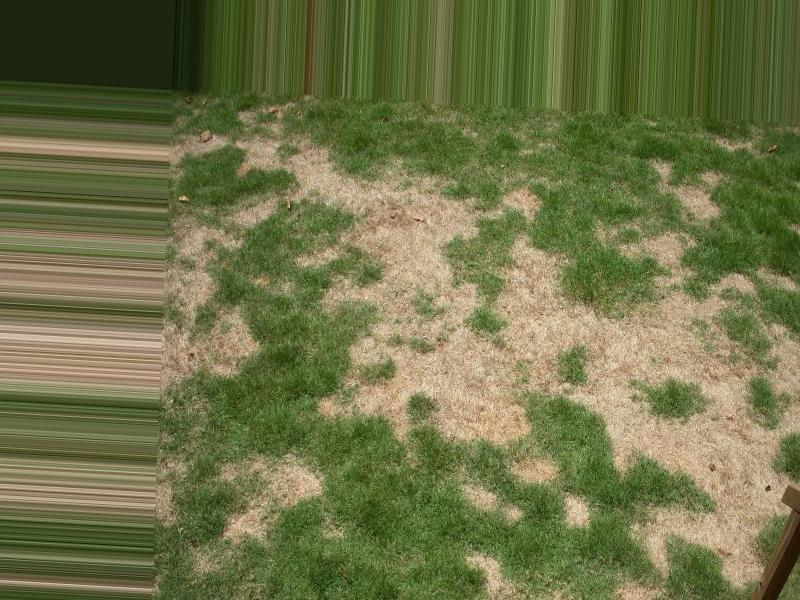patch: (393, 283, 503, 431), (519, 300, 655, 377), (611, 388, 730, 471), (643, 274, 728, 383), (377, 193, 449, 269), (720, 482, 761, 550), (301, 159, 334, 200)
